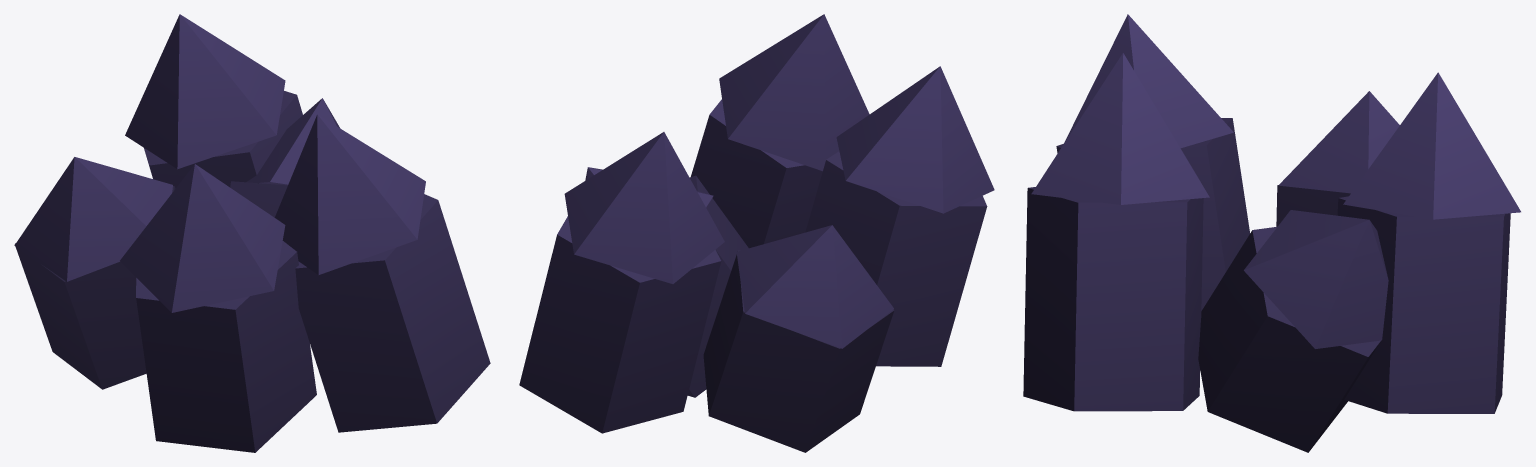
Rendered from tungsten-ore.glb.
The picture shows the model from 3 angles, left to right: view 1: azimuth 30°, elevation 25°; view 2: azimuth 150°, elevation 25°; view 3: azimuth 270°, elevation 25°; orthographic projection. The views are drawn at different scales.
Visible parts, largest first — view 1: tungsten-ore; view 2: tungsten-ore; view 3: tungsten-ore.
Part boxes in pixels (x1=…): tungsten-ore: x1=14, y1=14, x2=490, y2=452; tungsten-ore: x1=519, y1=14, x2=994, y2=452; tungsten-ore: x1=1023, y1=14, x2=1520, y2=452.
Size of the model in its own units: 0.1517 by 0.1433 by 0.1856.
